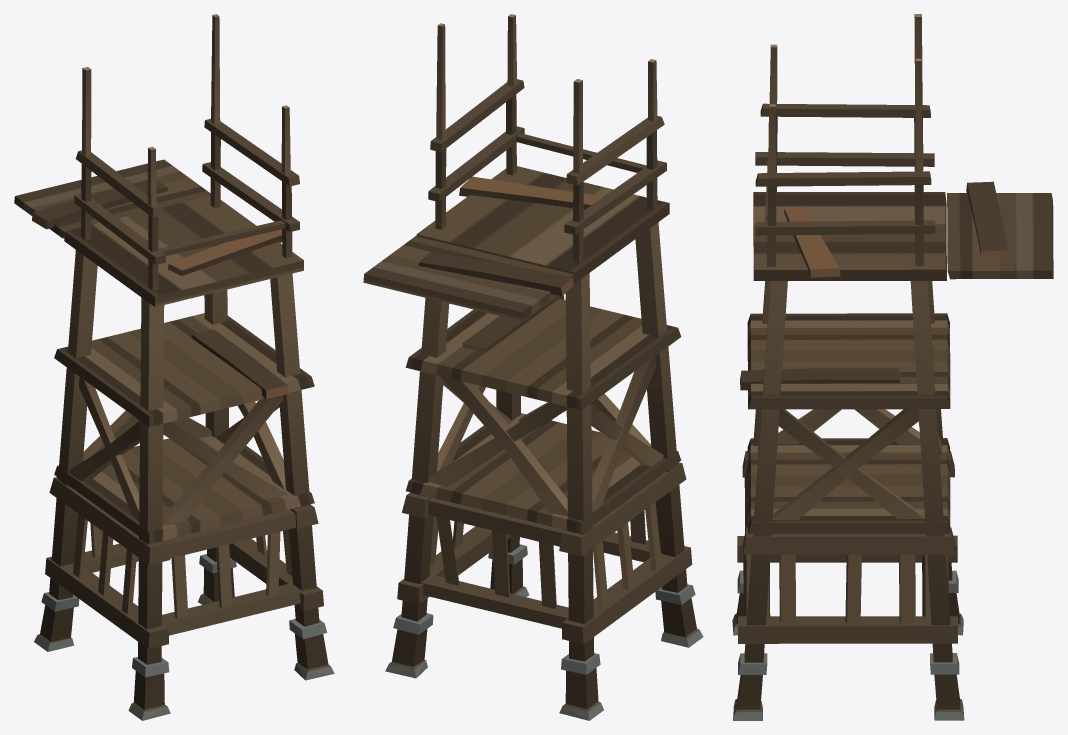
The model's file is ZLP_Build_F_25.FBX.
3 views of the same model, side by side, from view 1: azimuth 30°, elevation 25°; view 2: azimuth 150°, elevation 25°; view 3: azimuth 270°, elevation 25° (orthographic). The views are drawn at different scales.
Parts seen in each view (by area): view 1: ZLP_Build_F_25; view 2: ZLP_Build_F_25; view 3: ZLP_Build_F_25.
Part boxes in pixels (box(x1,y1,x2,y2)): ZLP_Build_F_25: box(14, 14, 334, 720); ZLP_Build_F_25: box(363, 14, 703, 720); ZLP_Build_F_25: box(732, 14, 1053, 720).
Size of the model in its own units: 145 by 431 by 195.
